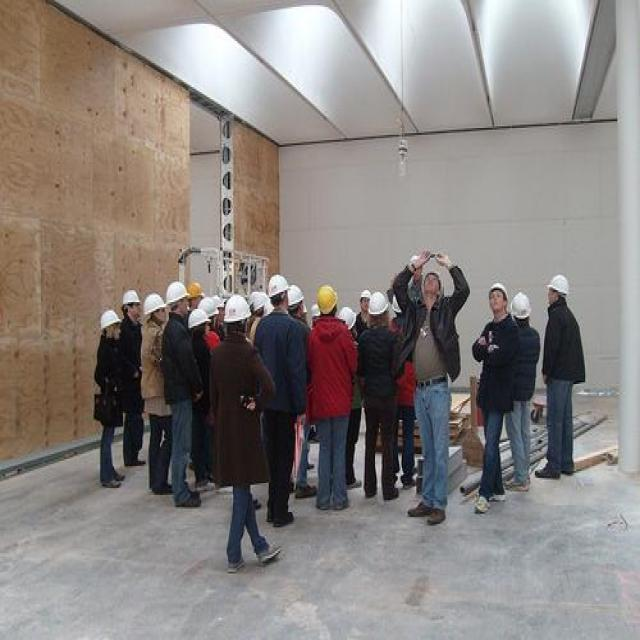Safety-Helmet: (222, 292, 252, 324), (508, 288, 534, 321), (315, 282, 339, 316), (545, 270, 572, 300), (164, 278, 189, 307), (96, 306, 124, 331), (142, 290, 166, 318), (367, 288, 389, 316), (268, 271, 290, 297), (488, 278, 510, 299), (120, 287, 141, 309), (286, 284, 304, 308)
